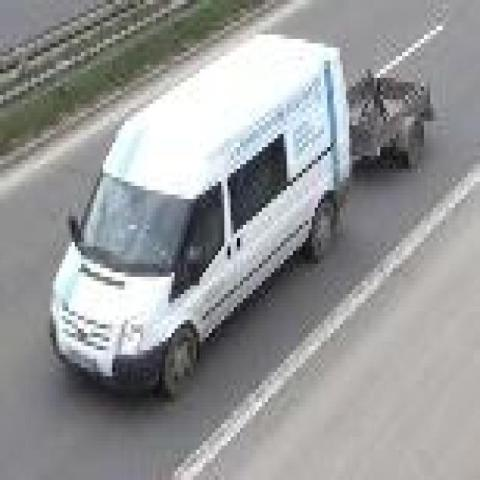van: (53, 32, 346, 396)
